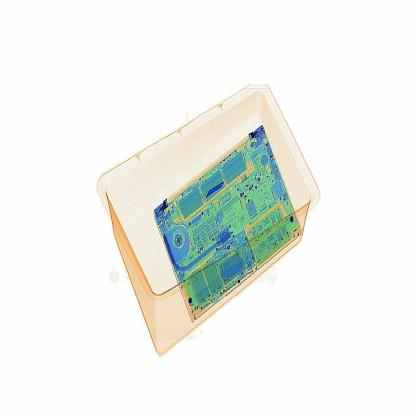pliers: (202, 178, 232, 205)
